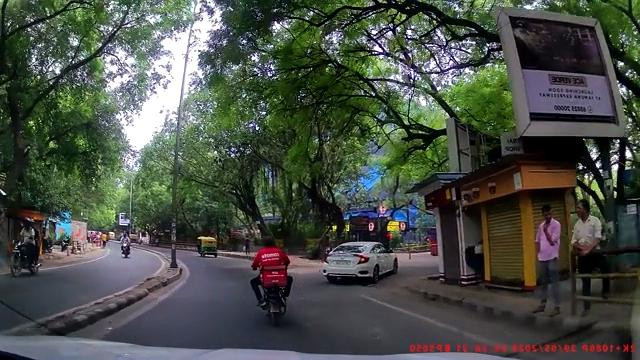motorcycle_without_helmet: (249, 236, 294, 325)
